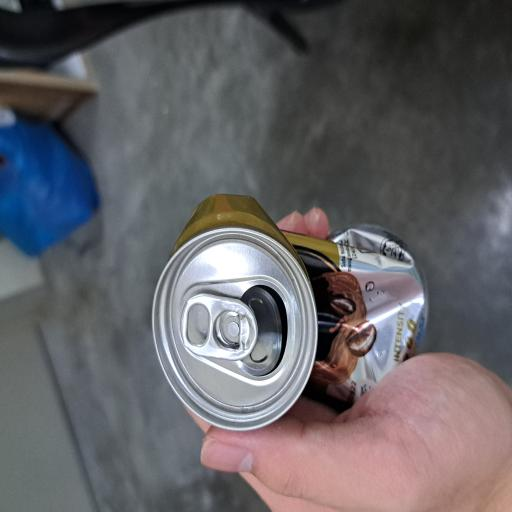can: (61, 200, 239, 512)
pop tab: (115, 241, 166, 344)
